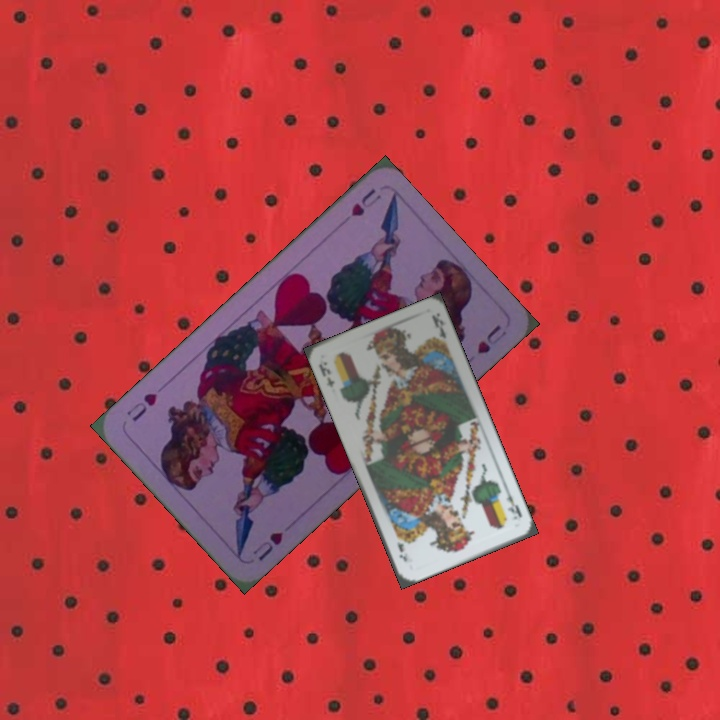EK: (501, 484, 524, 522), (315, 357, 338, 390)
HU: (248, 527, 286, 564), (346, 184, 384, 219)
